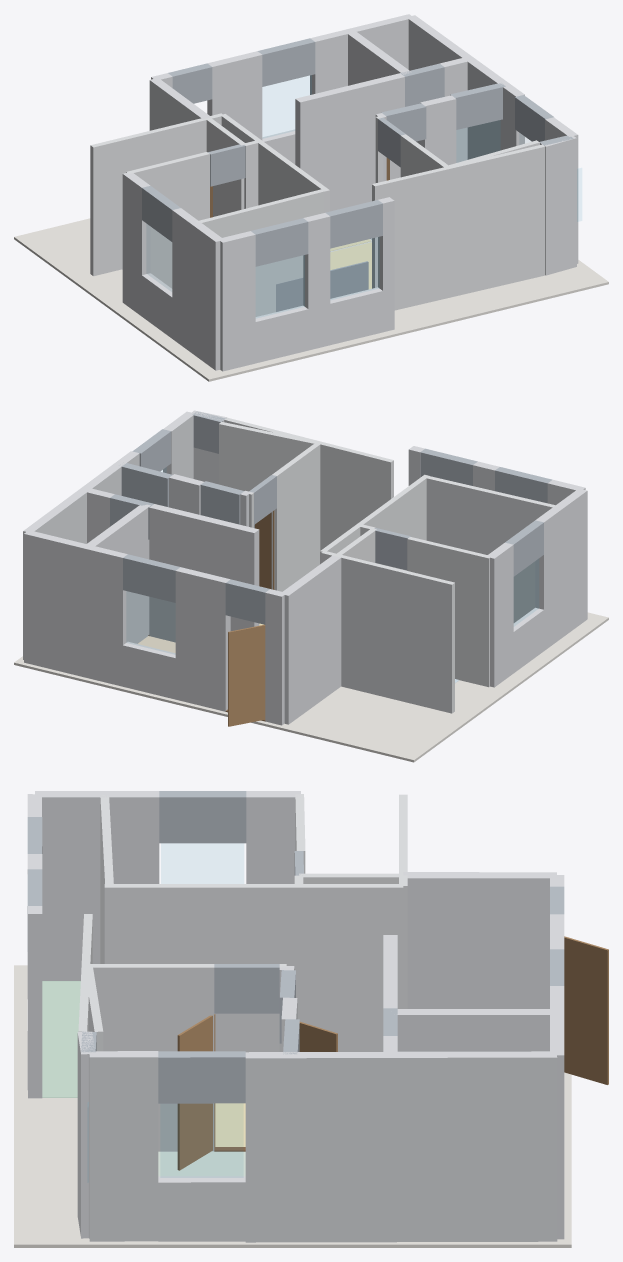
3 renders of one model, top to bottom at view 1: azimuth 30°, elevation 25°; view 2: azimuth 150°, elevation 25°; view 3: azimuth 270°, elevation 25°, orthographic. The views are drawn at different scales.
Parts seen in each view (by area): view 1: wall_001_w2, floor_slab, wall_post_020_00, wall_013_w14, wall_post_009_00, wall_post_003_final, wall_post_000_00, wall_010_w11, wall_post_007_00, wall_016_w17, wall_post_004_final, wall_post_004_01 (+29 smaller); view 2: wall_013_w14, wall_post_004_final, floor_slab, wall_006_w7, wall_post_020_00, wall_010_w11, wall_post_004_01, wall_post_009_00, wall_post_007_00, wall_001_w2, wall_post_018_00, wall_015_w16 (+30 smaller); view 3: wall_post_003_final, floor_slab, wall_006_w7, wall_011_w12, wall_post_009_00, wall_012_w13, wall_post_003_00, wall_post_018_00, wall_021_w22, door_leaf_d6, sill_wall_003_win7, lintel_win_003_win7 (+20 smaller).
Boxes of the visible parts, left/top/right/bottom form: wall_001_w2: left=372, top=144, right=545, bottom=310; floor_slab: left=14, top=218, right=608, bottom=381; wall_post_020_00: left=295, top=73, right=404, bottom=211; wall_013_w14: left=90, top=118, right=206, bottom=276; wall_post_009_00: left=172, top=208, right=222, bottom=370; wall_post_003_final: left=406, top=15, right=524, bottom=159; wall_post_000_00: left=218, top=231, right=255, bottom=371; wall_010_w11: left=195, top=188, right=326, bottom=316; wall_post_007_00: left=126, top=152, right=209, bottom=288; wall_016_w17: left=540, top=137, right=576, bottom=275; wall_post_004_final: left=310, top=14, right=413, bottom=94; wall_post_004_01: left=207, top=51, right=262, bottom=140; wall_013_w14: left=337, top=554, right=454, bottom=713; wall_post_004_final: left=24, top=530, right=127, bottom=686; floor_slab: left=14, top=612, right=608, bottom=762; wall_006_w7: left=280, top=555, right=341, bottom=724; wall_post_020_00: left=149, top=504, right=259, bottom=642; wall_010_w11: left=425, top=475, right=558, bottom=622; wall_post_004_01: left=175, top=567, right=230, bottom=711; wall_post_009_00: left=535, top=488, right=587, bottom=650; wall_post_007_00: left=407, top=537, right=491, bottom=687; wall_001_w2: left=224, top=417, right=393, bottom=550; wall_post_018_00: left=271, top=445, right=317, bottom=591; wall_015_w16: left=219, top=422, right=318, bottom=528; wall_post_003_final: left=245, top=1051, right=557, bottom=1242; floor_slab: left=14, top=965, right=571, bottom=1247; wall_006_w7: left=403, top=872, right=556, bottom=1008; wall_011_w12: left=104, top=884, right=298, bottom=1052; wall_post_009_00: left=35, top=791, right=159, bottom=980; wall_012_w13: left=299, top=884, right=403, bottom=1051; wall_post_003_00: left=89, top=1051, right=158, bottom=1241; wall_post_018_00: left=99, top=964, right=214, bottom=1151; wall_021_w22: left=397, top=1009, right=549, bottom=1051; door_leaf_d6: left=564, top=936, right=608, bottom=1084; sill_wall_003_win7: left=158, top=1176, right=245, bottom=1241; lintel_win_003_win7: left=158, top=1051, right=245, bottom=1103.
Bounding box in the file's own units: 9.1 × 2.85 × 8.2.
